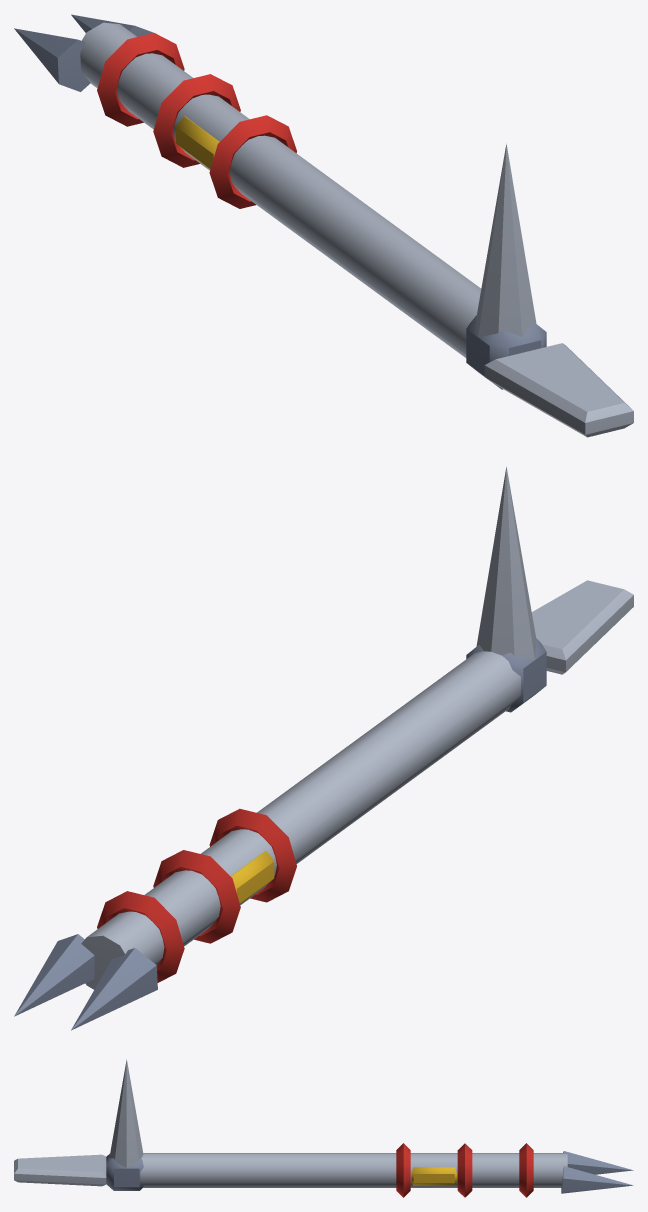
The model's file is w_m_halligan.glb.
3 views of the same model, one above another, from view 1: azimuth 30°, elevation 25°; view 2: azimuth 150°, elevation 25°; view 3: azimuth 270°, elevation 25° (orthographic). The views are drawn at different scales.
Visible parts, largest first — view 1: body; view 2: body; view 3: body.
Boxes of the visible parts, x1,y1,x2,y2 form: body: [14, 14, 633, 437]; body: [14, 466, 633, 1030]; body: [14, 1059, 633, 1197].
Bounding box in the file's own units: 0.122 × 0.2914 × 1.21.
